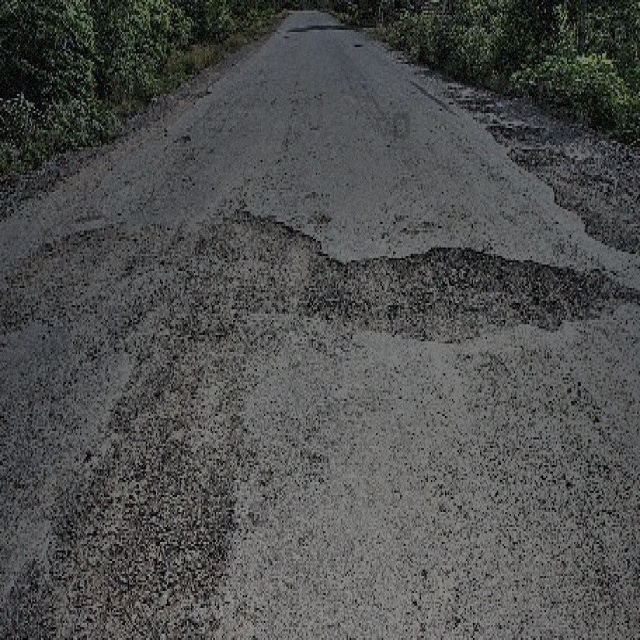pothole: (344, 243, 617, 337), (222, 205, 331, 328)
